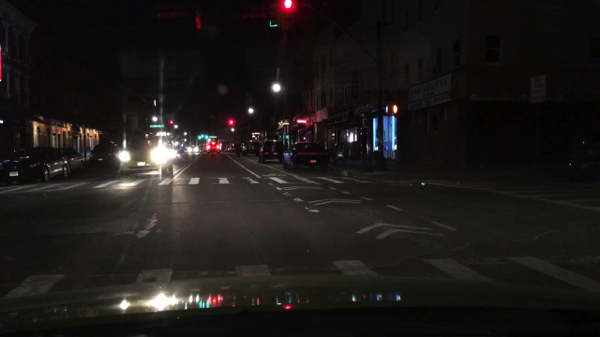car: (0, 146, 72, 185), (117, 133, 173, 176), (282, 141, 331, 170), (564, 144, 599, 181), (88, 141, 125, 172), (56, 147, 88, 175), (258, 139, 286, 165), (240, 140, 260, 157), (203, 141, 221, 155), (221, 141, 233, 153), (186, 146, 200, 154)
person: (232, 138, 242, 160)
traffic light: (280, 1, 296, 27), (268, 1, 279, 27), (391, 104, 400, 115), (384, 105, 391, 115), (228, 120, 235, 126), (168, 121, 174, 125)
traffic sign: (150, 125, 164, 128), (208, 135, 218, 139), (280, 122, 289, 126)
